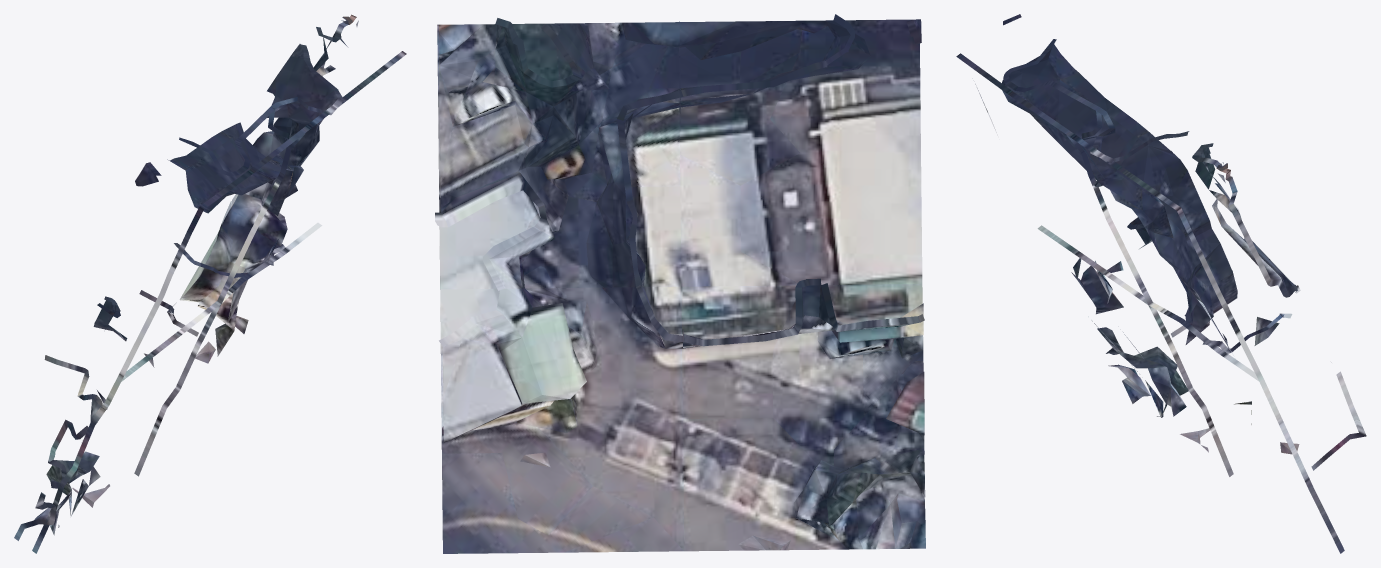
The picture shows the model from 3 angles, left to right: view 1: azimuth 30°, elevation 25°; view 2: azimuth 150°, elevation 25°; view 3: azimuth 270°, elevation 25°; orthographic projection. The views are drawn at different scales.
Size of the model in its own units: 38.91 by 37.91 by 33.48.
2 materials, 2 textured.
